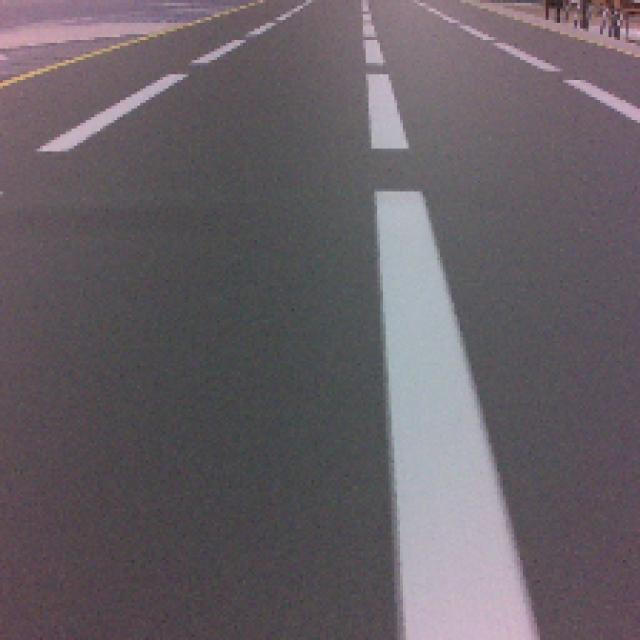Pedestrian crosswalk: (379, 193, 540, 640)
